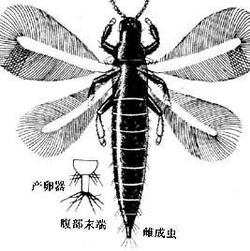pest: (106, 7, 153, 242)
